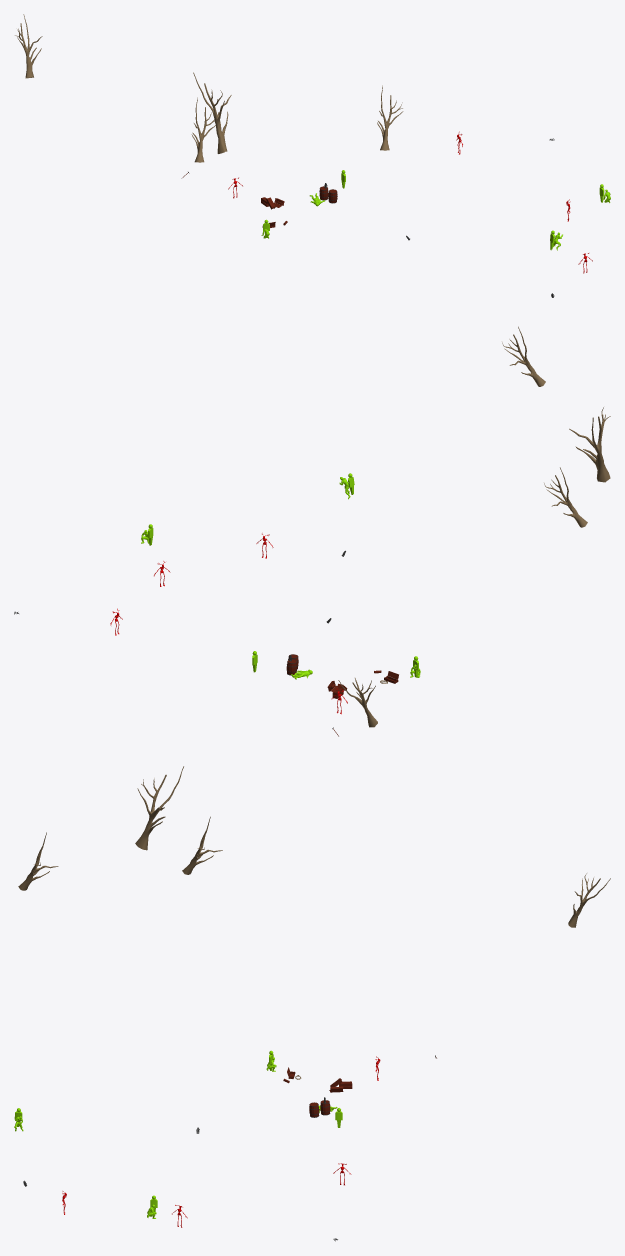
Rendered from PlaceHolders.fbx.
3 renders of one model, top to bottom at view 1: azimuth 30°, elevation 25°; view 2: azimuth 150°, elevation 25°; view 3: azimuth 270°, elevation 25°, orthographic. The views are drawn at different scales.
Parts seen in each view (by area): view 1: Tree_Back_2, Tree_Back_3, Tree_Back_4, Tree_Back_1; view 2: Tree_Back_2; view 3: Tree_Back_2.
Part boxes in pixels (x1=…): Tree_Back_2: x1=193, y1=72, x2=231, y2=153; Tree_Back_3: x1=15, y1=14, x2=42, y2=78; Tree_Back_4: x1=377, y1=85, x2=403, y2=150; Tree_Back_1: x1=191, y1=97, x2=215, y2=162; Tree_Back_2: x1=569, y1=407, x2=610, y2=482; Tree_Back_2: x1=135, y1=766, x2=183, y2=850.
Size of the model in its own units: 49.48 by 26.88 by 54.13.
